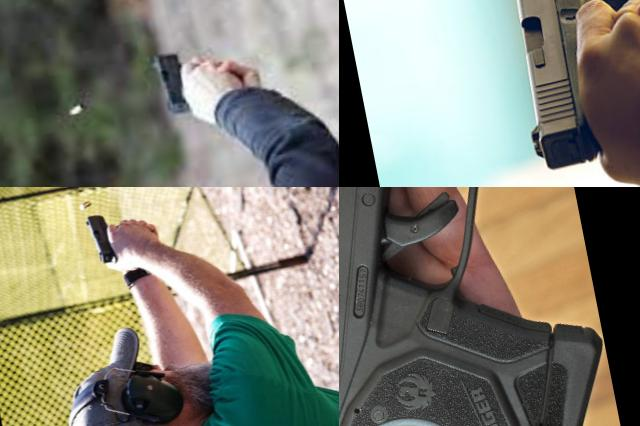handgun: (339, 187, 620, 426), (489, 0, 640, 176), (146, 32, 254, 118), (82, 206, 140, 268)
